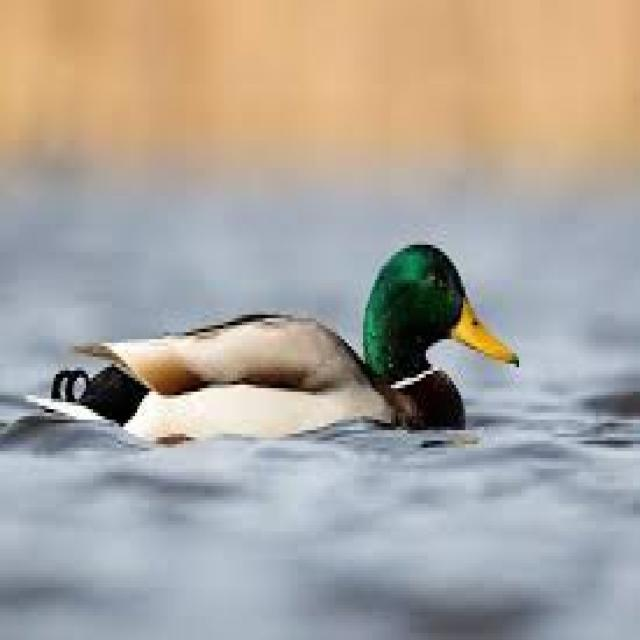Duck: (47, 235, 539, 431)
